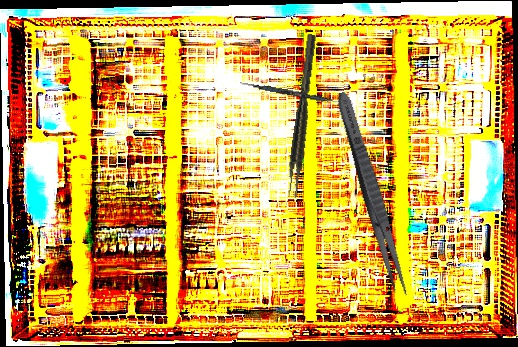Dressing Forceps: (331, 89, 414, 300)
Spatula Surgical: (239, 81, 353, 107)
Tissue Forceps: (284, 33, 322, 199)
